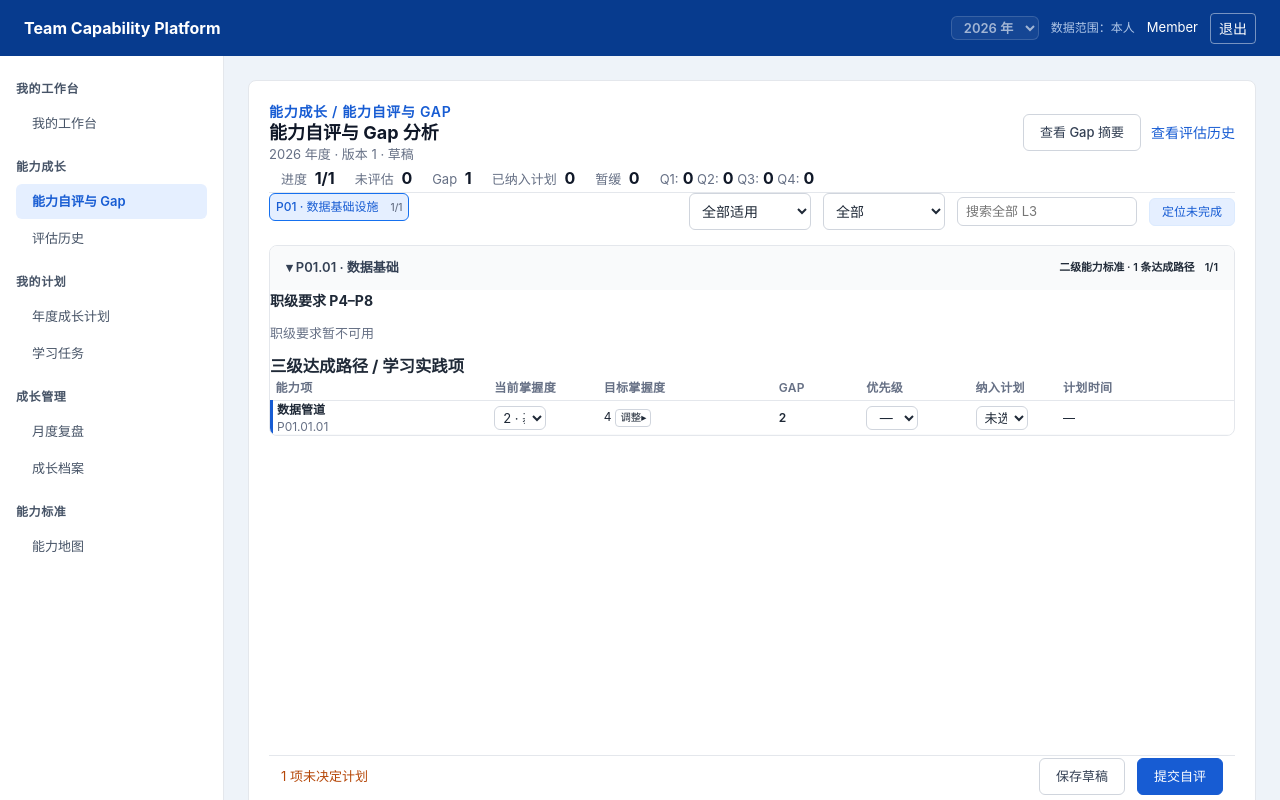
AssessmentGapPage › blocks incomplete personal adjustments and unblocks after canceling them
Expected: the heading "能力自评与 Gap 分析" is shown, 269,122 -> 451,144
// Click the adjustment expand button
Click the button "调整▸" at [633, 418], box 615,409 -> 651,427
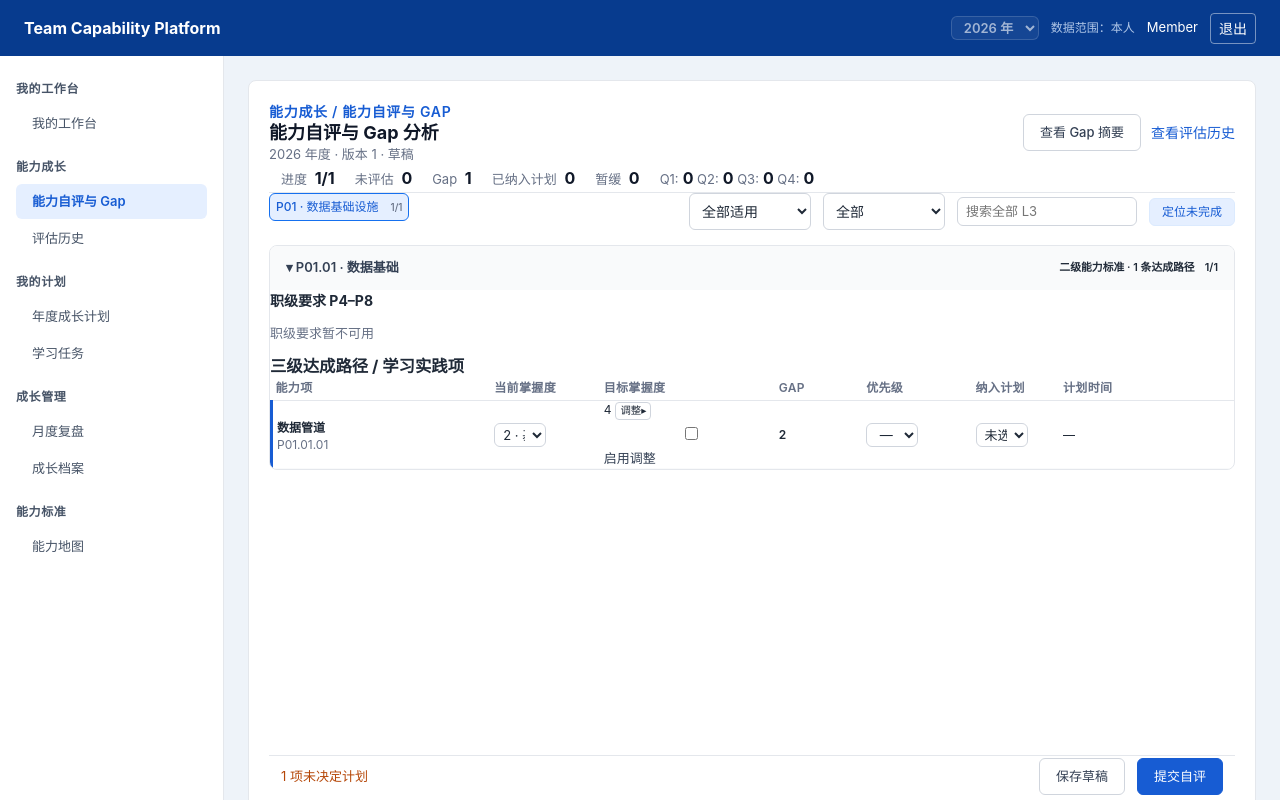
// Enable adjustment
Click the checkbox named "启用个人调整 P01.01.01" at [691, 434], box 608,427 -> 775,440
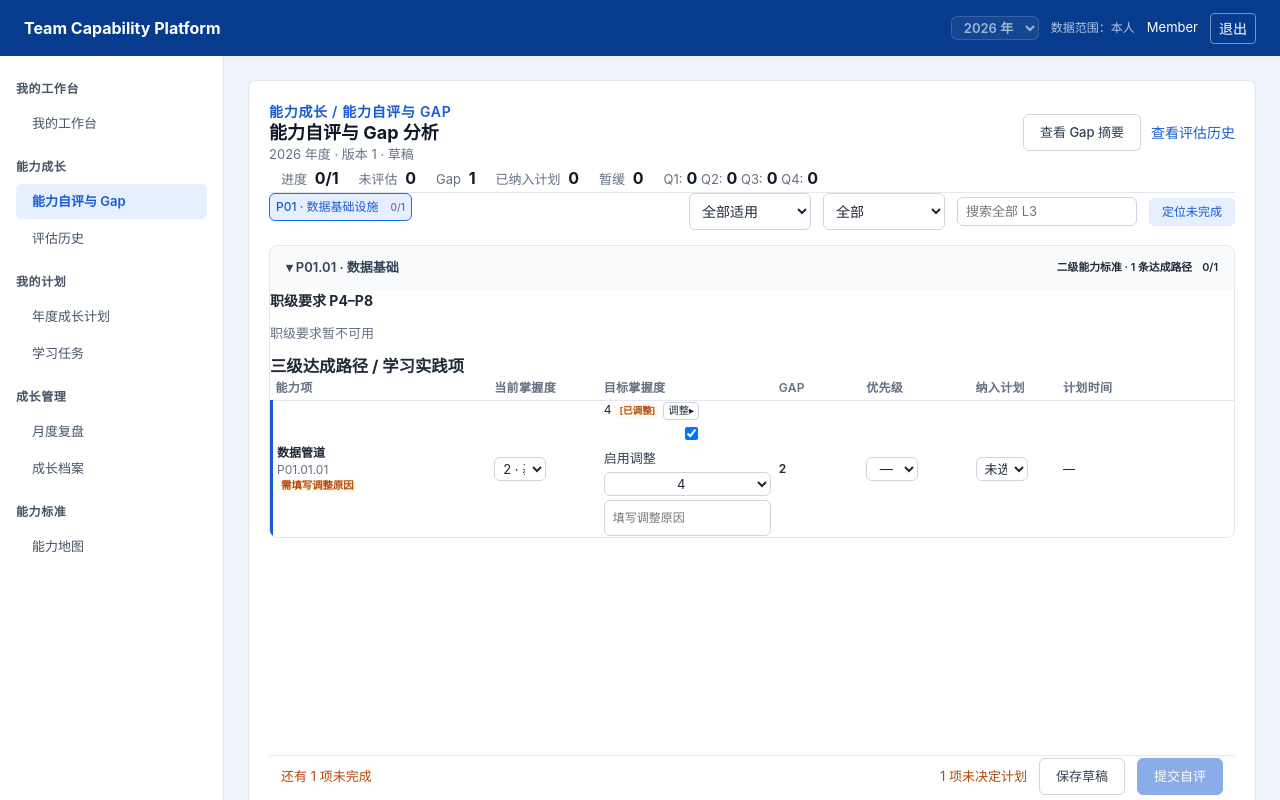
Expected: the text "需填写调整原因" is shown, 277,480 -> 358,492
Expected: the button "提交自评" is disabled, 1137,758 -> 1223,795
// Cancel adjustment
Click the checkbox named "启用个人调整 P01.01.01" at [691, 434], box 608,427 -> 775,440
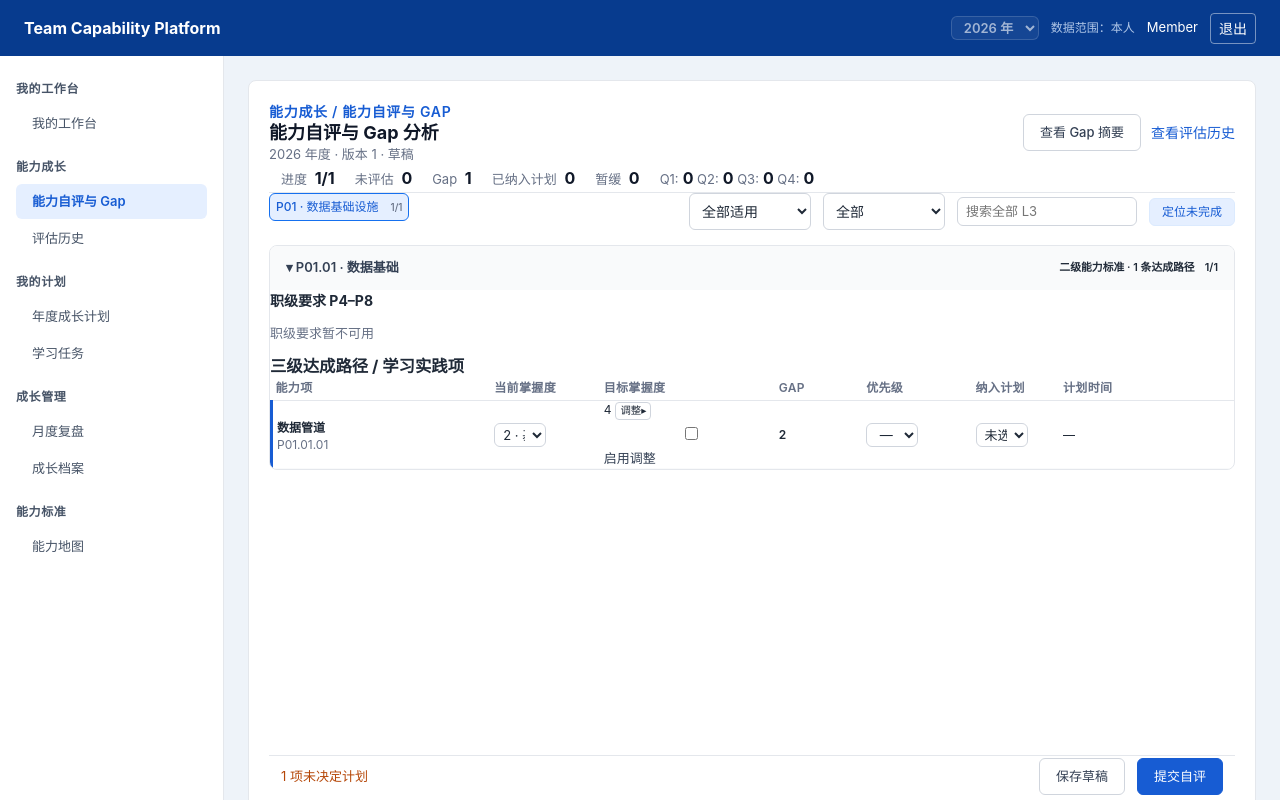
Expected: the button "提交自评" is enabled, 1137,758 -> 1223,795
